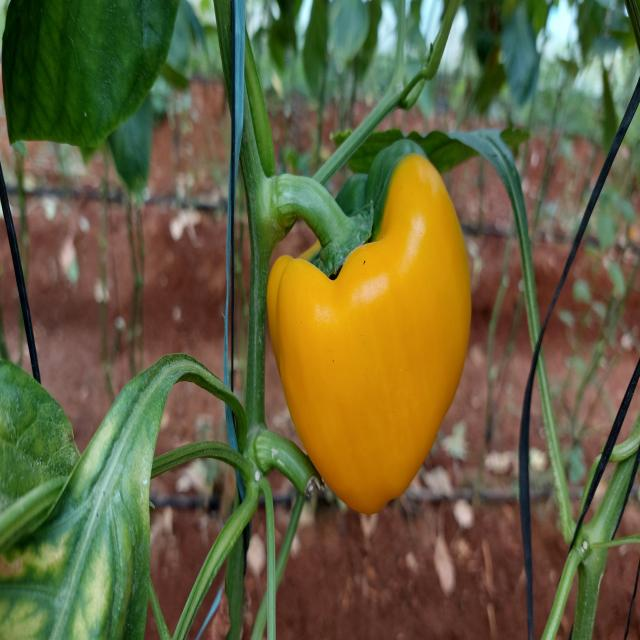Yellow-Ready-to-Harvest: (268, 156, 472, 518)
